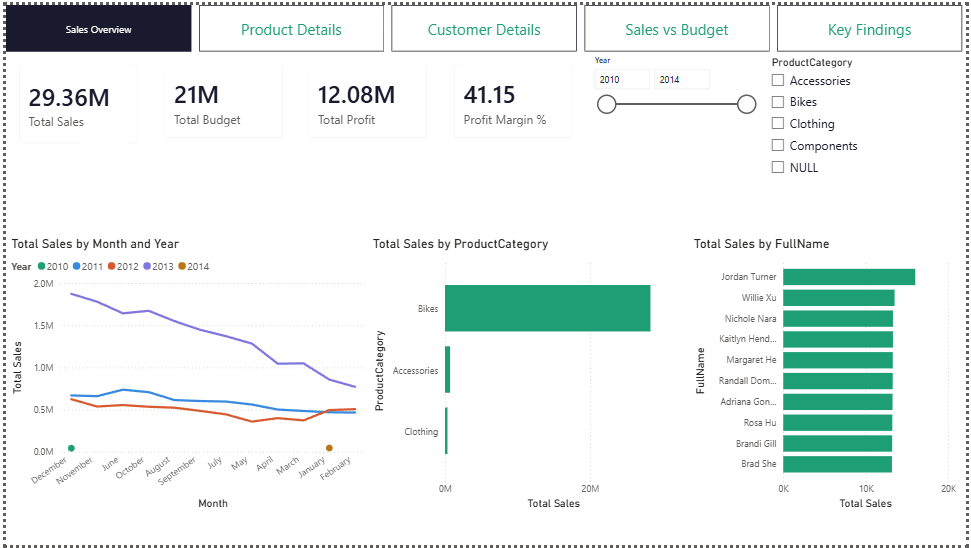

The dashboard page shown, as its layout file describes it:
{"tool":"powerbi","page":{"name":"Sales Overview","canvas":[1280,720],"ordinal":0},"visuals":[{"type":"cardVisual","fields":{"Data":["_Measures.Total Sales"]},"box":[0.6,62.4,192.8,139.8],"z":0},{"type":"cardVisual","fields":{"Data":["_Measures.Total Budget"]},"box":[194,61.7,192.8,132.3],"z":1000},{"type":"cardVisual","fields":{"Data":["_Measures.Total Profit"]},"box":[386.7,61.7,192.8,132.3],"z":2000},{"type":"cardVisual","fields":{"Data":["_Measures.Profit Margin %"]},"box":[579.5,61.7,192.8,132.3],"z":3000},{"type":"lineChart","fields":{"Category":["DIM_Calendar.Month"],"Y":["_Measures.Total Sales"],"Series":["DIM_Calendar.Year"]},"box":[1.2,307.4,481.9,368.5],"z":4000},{"type":"clusteredBarChart","fields":{"Category":["DIM_Product.ProductCategory"],"Y":["_Measures.Total Sales"]},"box":[483.1,307.4,408.2,368.5],"z":5000},{"type":"clusteredBarChart","fields":{"Y":["_Measures.Total Sales"],"Category":["DIM_Customer.FullName"]},"box":[912.1,307.4,359.1,368.5],"z":6000},{"type":"slicer","fields":{"Values":["DIM_Calendar.Year"]},"box":[772.3,61.7,236.2,139.8],"z":7000},{"type":"slicer","fields":{"Values":["DIM_Product.ProductCategory"]},"box":[1008.5,61.7,272.1,245.7],"z":8000},{"type":"pageNavigator","box":[0,0,1279.4,62.4],"z":8001}]}

Visuals, with their boxes in screenshot pixels (x1, y1, x2, y2), scaled from the page's 1280x720 canvas onto the 971x548 screenshot:
cardVisual - _Measures.Total Sales: left=0, top=47, right=147, bottom=154
cardVisual - _Measures.Total Budget: left=147, top=47, right=293, bottom=148
cardVisual - _Measures.Total Profit: left=293, top=47, right=440, bottom=148
cardVisual - _Measures.Profit Margin %: left=440, top=47, right=586, bottom=148
lineChart - DIM_Calendar.Month x _Measures.Total Sales: left=1, top=234, right=366, bottom=514
clusteredBarChart - DIM_Product.ProductCategory x _Measures.Total Sales: left=366, top=234, right=676, bottom=514
clusteredBarChart - _Measures.Total Sales x DIM_Customer.FullName: left=692, top=234, right=964, bottom=514
slicer - DIM_Calendar.Year: left=586, top=47, right=765, bottom=153
slicer - DIM_Product.ProductCategory: left=765, top=47, right=970, bottom=234
pageNavigator: left=0, top=0, right=970, bottom=47
